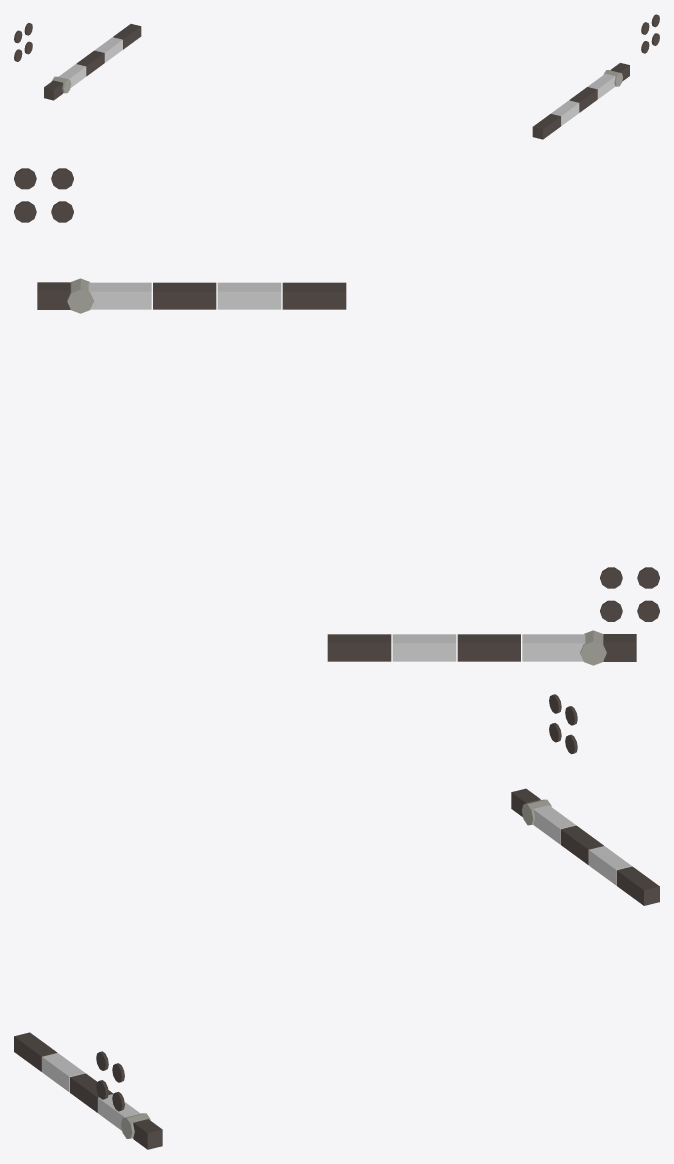
Rendered from SM_PasoNivel_60_v1_FocosDobles_LOD1.fbx.
The picture shows the model from 3 angles, top to bottom: view 1: azimuth 30°, elevation 25°; view 2: azimuth 150°, elevation 25°; view 3: azimuth 270°, elevation 25°; orthographic projection. The views are drawn at different scales.
Visible parts, largest first — view 1: Barrera_2, Barrera_1, Luces_A, Luces_B; view 2: Barrera_2, Barrera_1, Luces_B, Luces_A; view 3: Barrera_2, Barrera_1, Luces_A, Luces_B.
Boxes of the visible parts, <box> form: Barrera_2: <box>44,24,141,100</box>; Barrera_1: <box>532,63,629,139</box>; Luces_A: <box>14,22,649,61</box>; Luces_B: <box>24,14,659,54</box>; Barrera_2: <box>327,630,636,665</box>; Barrera_1: <box>37,278,346,313</box>; Luces_B: <box>14,168,622,621</box>; Luces_A: <box>51,168,659,621</box>; Barrera_2: <box>511,788,659,905</box>; Barrera_1: <box>14,1032,162,1149</box>; Luces_A: <box>96,694,561,1099</box>; Luces_B: <box>112,706,577,1111</box>.
Size of what is drawn, in the model's own units: 15.52 by 1.91 by 11.25.
